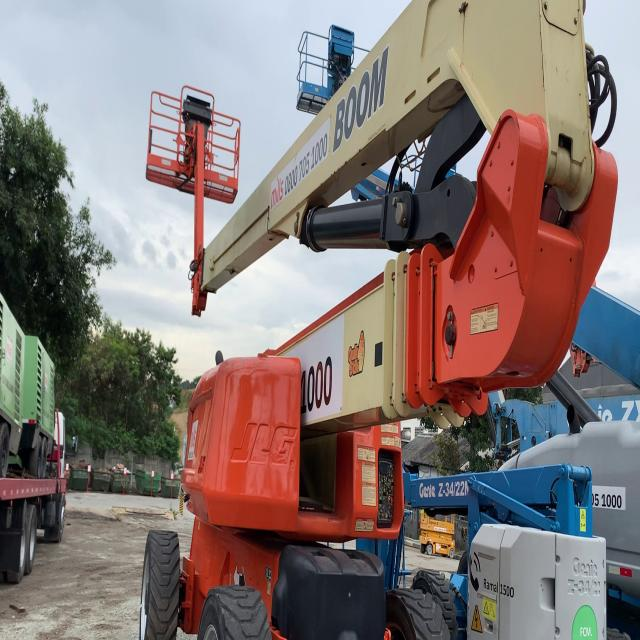Adesivo Longo: (269, 113, 331, 214)
